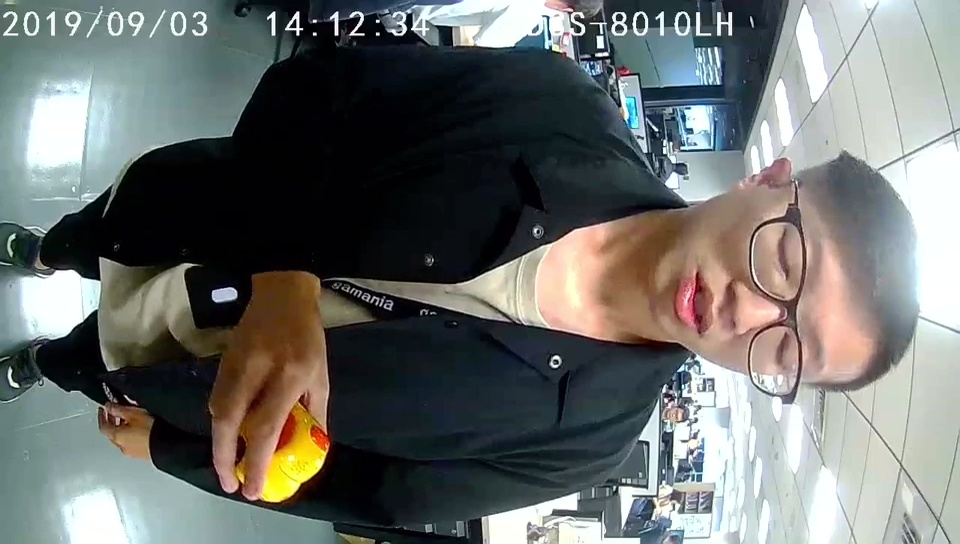car: (258, 395, 327, 505)
